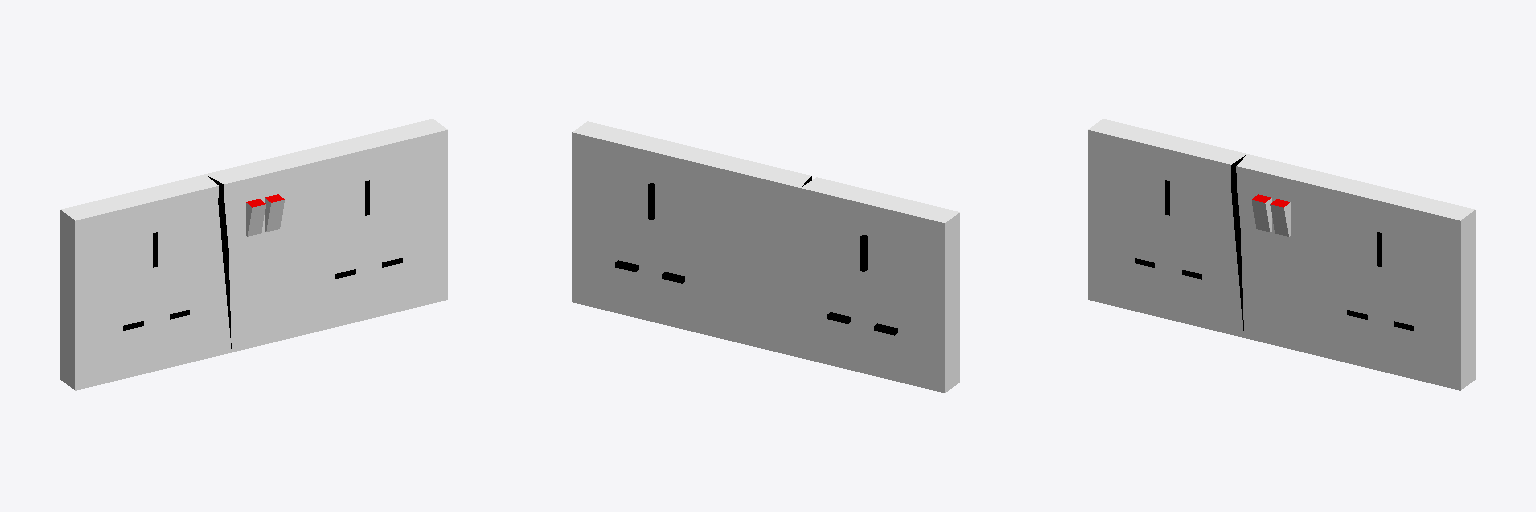
File: itm_wallsocket_damaged.obj
3 views of the same model, side by side, from view 1: azimuth 30°, elevation 25°; view 2: azimuth 150°, elevation 25°; view 3: azimuth 330°, elevation 25° (orthographic).
Visible parts, largest first — view 1: itm_wallsocket_damaged; view 2: itm_wallsocket_damaged; view 3: itm_wallsocket_damaged.
Boxes of the visible parts, <box> form: itm_wallsocket_damaged: <box>60,119,447,390</box>; itm_wallsocket_damaged: <box>572,121,959,392</box>; itm_wallsocket_damaged: <box>1088,119,1475,390</box>.
Bounding box in the file's own units: 2.29 × 1 × 0.2666.